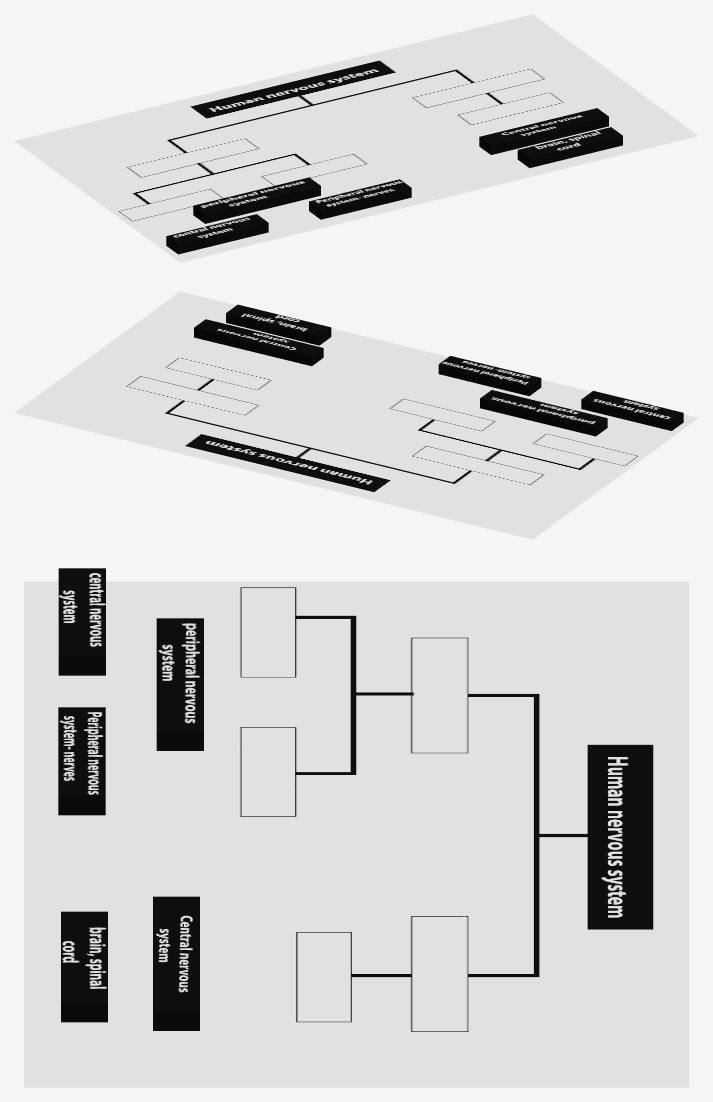
File: human_nurves_system.fbx
3 renders of one model, top to bottom at view 1: azimuth 30°, elevation 25°; view 2: azimuth 150°, elevation 25°; view 3: azimuth 270°, elevation 25°, orthographic. The views are drawn at different scales.
Parts seen in each view (by area): view 1: base, centeral_nurves_system, peripheral_nervous_system, brain_spinal_cord, centeral_nurves_system_nurves, centeral_nurves_system1; view 2: base, centeral_nurves_system, peripheral_nervous_system, brain_spinal_cord, centeral_nurves_system_nurves, centeral_nurves_system1; view 3: base, peripheral_nervous_system, centeral_nurves_system, brain_spinal_cord, centeral_nurves_system_nurves, centeral_nurves_system1.
Boxes of the visible parts, <box> form: base: <box>14,14,698,262</box>; centeral_nurves_system: <box>479,108,608,154</box>; peripheral_nervous_system: <box>193,177,320,223</box>; brain_spinal_cord: <box>517,127,622,167</box>; centeral_nurves_system_nurves: <box>309,179,411,219</box>; centeral_nurves_system1: <box>166,214,268,254</box>; base: <box>14,291,698,539</box>; centeral_nurves_system: <box>194,319,323,366</box>; peripheral_nervous_system: <box>480,390,607,436</box>; brain_spinal_cord: <box>226,304,331,345</box>; centeral_nurves_system_nurves: <box>438,356,541,396</box>; centeral_nurves_system1: <box>581,390,683,430</box>; base: <box>24,581,688,1087</box>; peripheral_nervous_system: <box>156,618,203,750</box>; centeral_nurves_system: <box>153,896,199,1030</box>; brain_spinal_cord: <box>61,911,107,1022</box>; centeral_nurves_system_nurves: <box>58,707,105,815</box>; centeral_nurves_system1: <box>58,568,105,675</box>.
Size of the model in its own units: 1629 by 29.56 by 904.
Materials: 2 (2 with a texture image).
